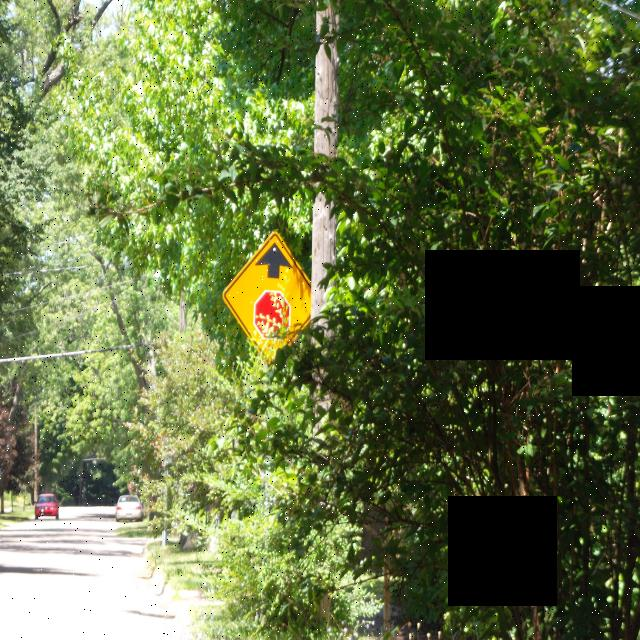stop: (253, 290, 290, 340)
warning: (223, 230, 312, 360)
